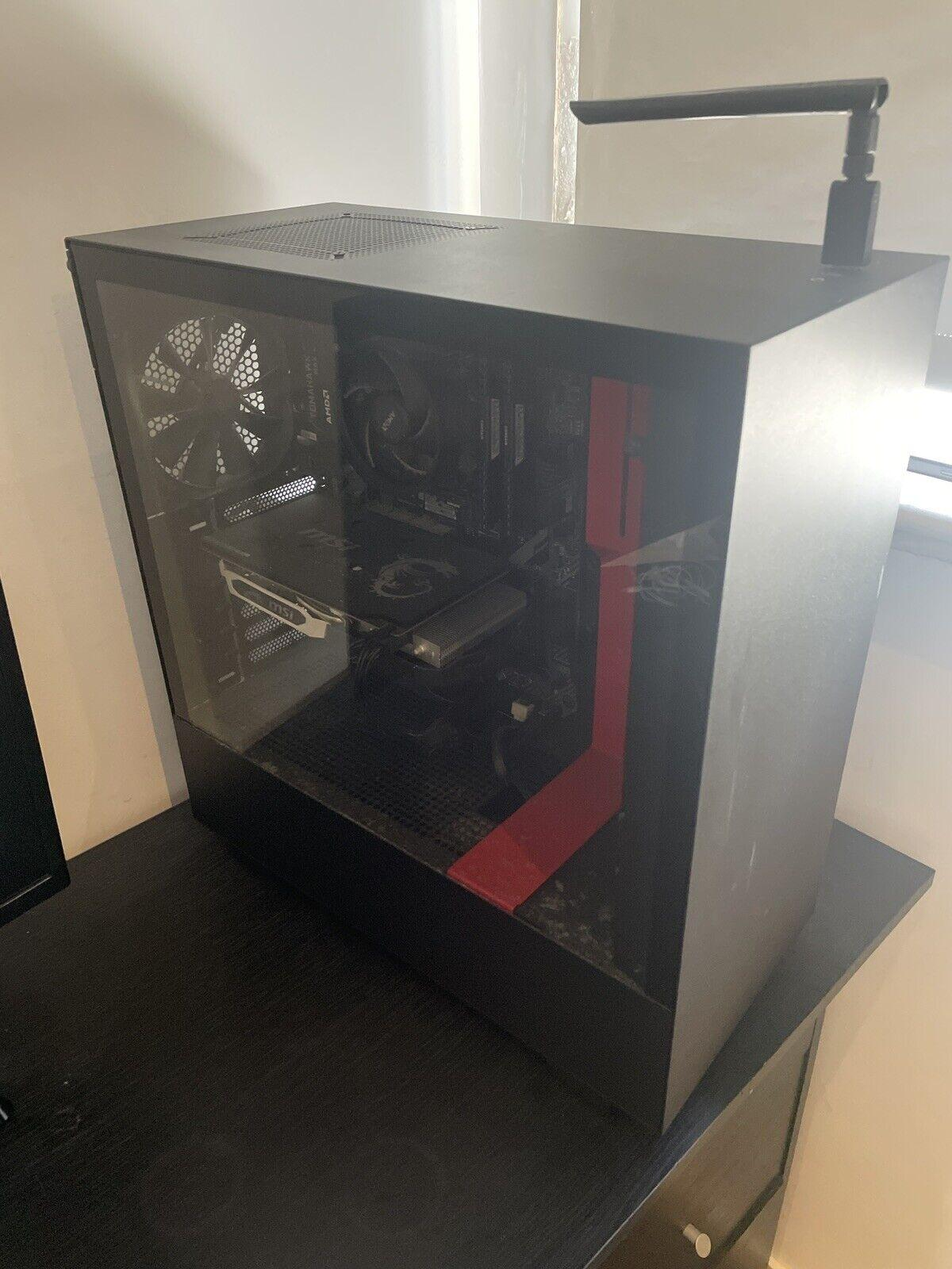DESKTOP PC: (58, 193, 944, 1137)
